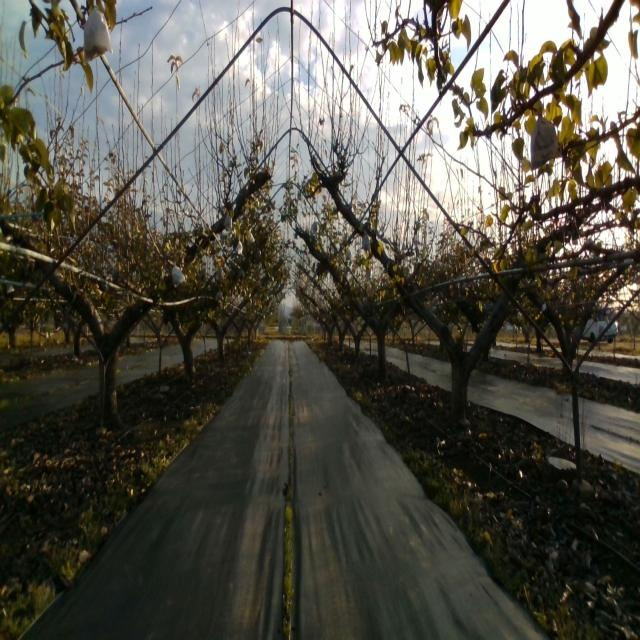pearbags: (529, 103, 563, 172), (84, 8, 112, 64), (171, 260, 186, 288), (360, 230, 372, 257)
